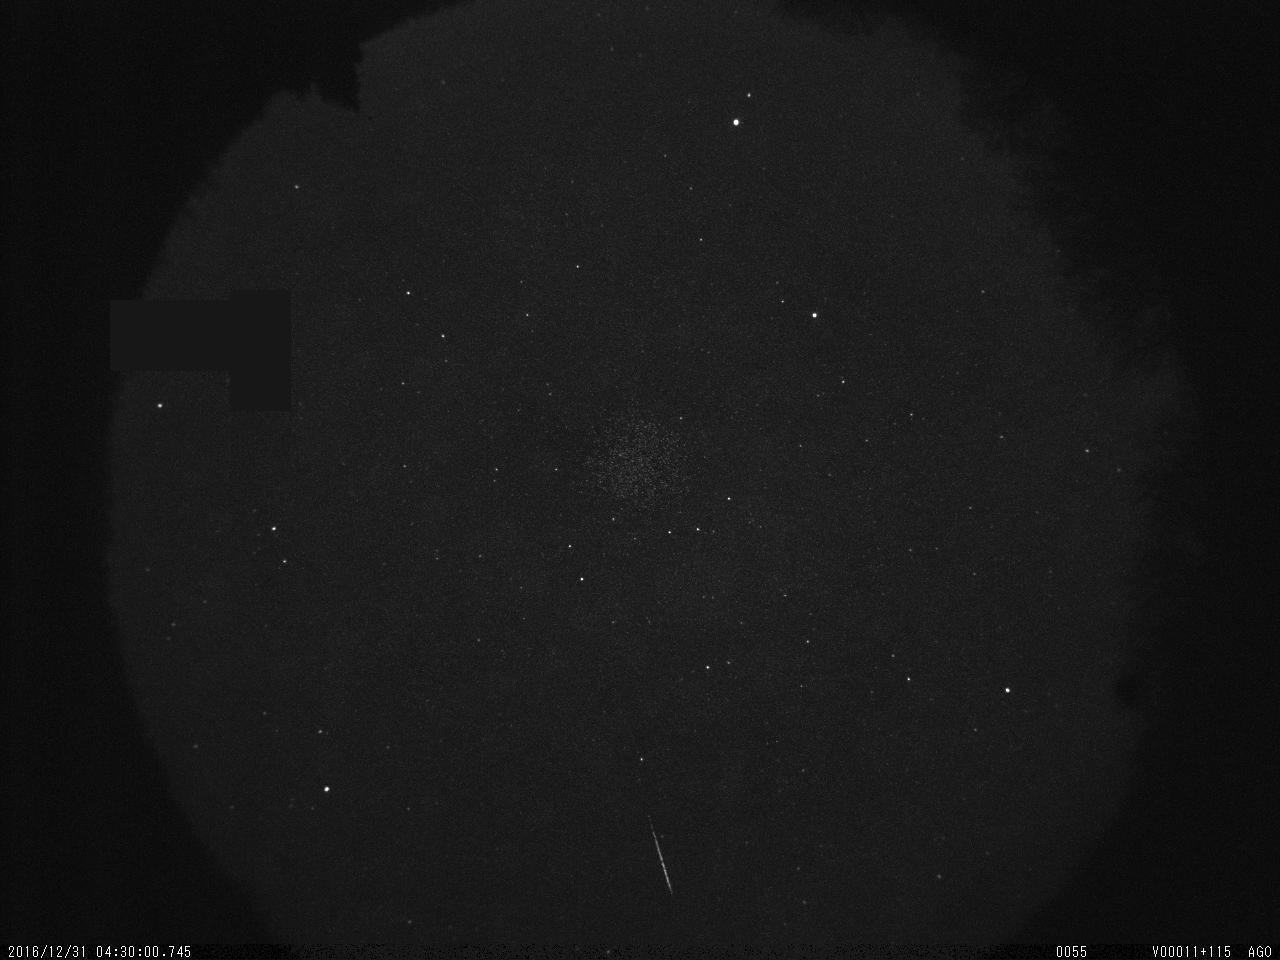Meteor: (647, 817, 675, 895)
